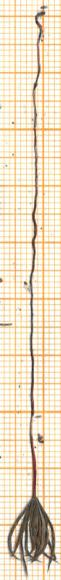flower: (1, 494, 61, 580)
root: (26, 8, 50, 249)
stem: (21, 247, 39, 494)
